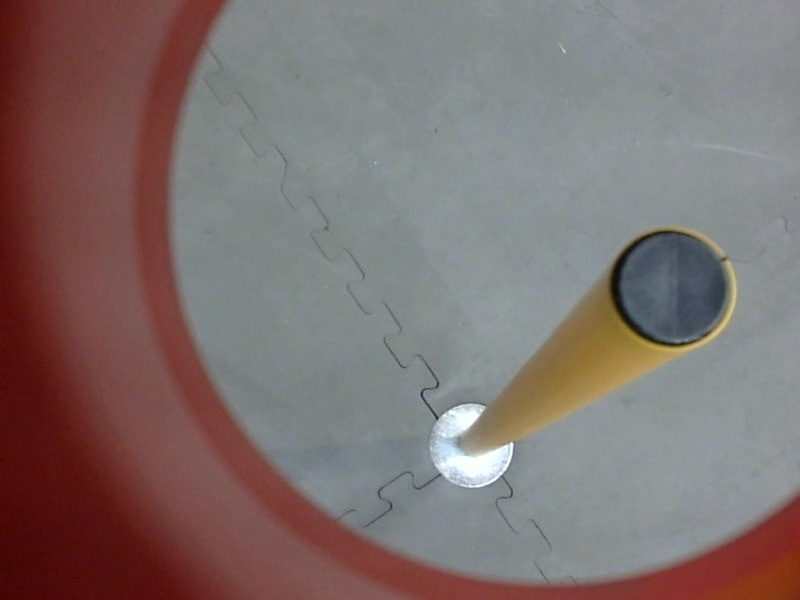tip: (604, 214, 744, 358)
